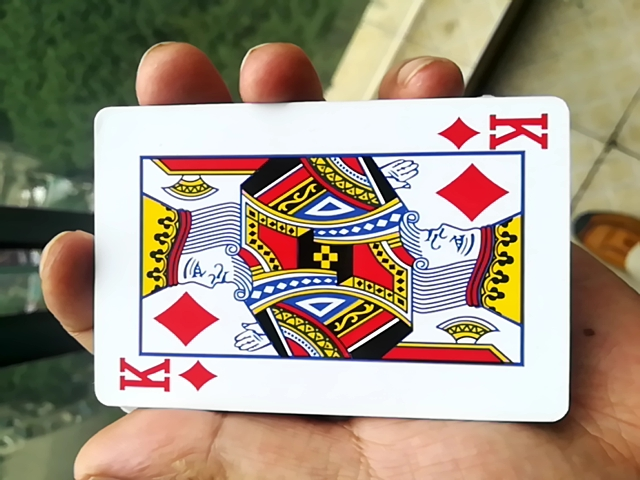fk k: (82, 103, 569, 431)
